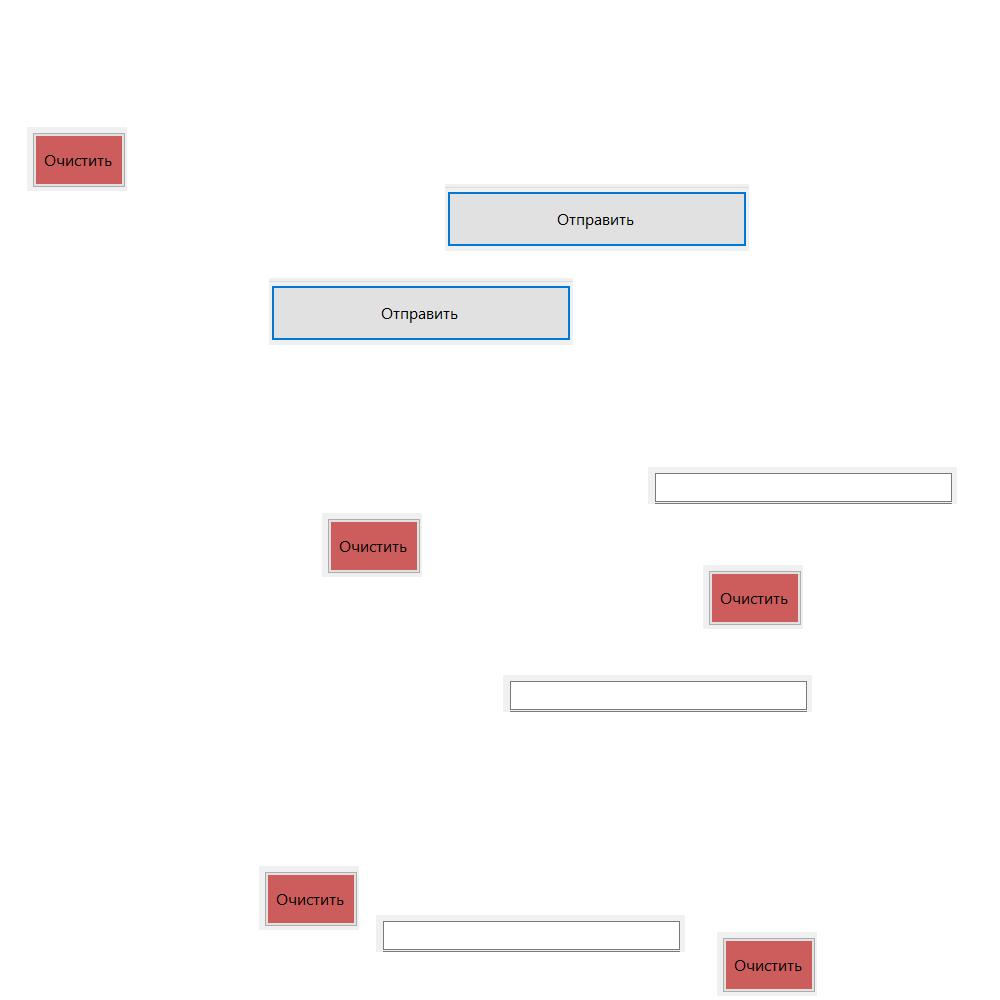Button: (445, 184, 749, 251), (269, 278, 573, 345), (322, 513, 422, 577), (27, 127, 127, 191), (703, 565, 803, 629), (259, 866, 359, 930), (717, 932, 817, 996)
EditText-: (648, 467, 957, 504), (376, 915, 685, 952), (503, 675, 812, 712)
